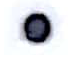cancer: (10, 1, 61, 54)
